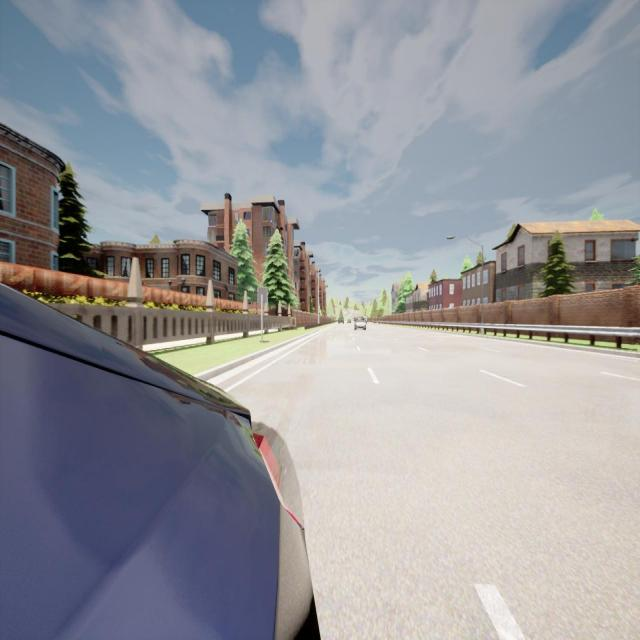Traffic_Signs: (257, 286, 268, 304)
Vehicle: (0, 284, 318, 638), (354, 317, 367, 332), (336, 315, 344, 325), (347, 318, 352, 326)
